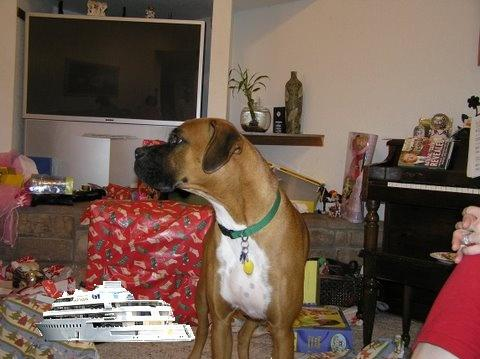tampered: (36, 282, 195, 342)
